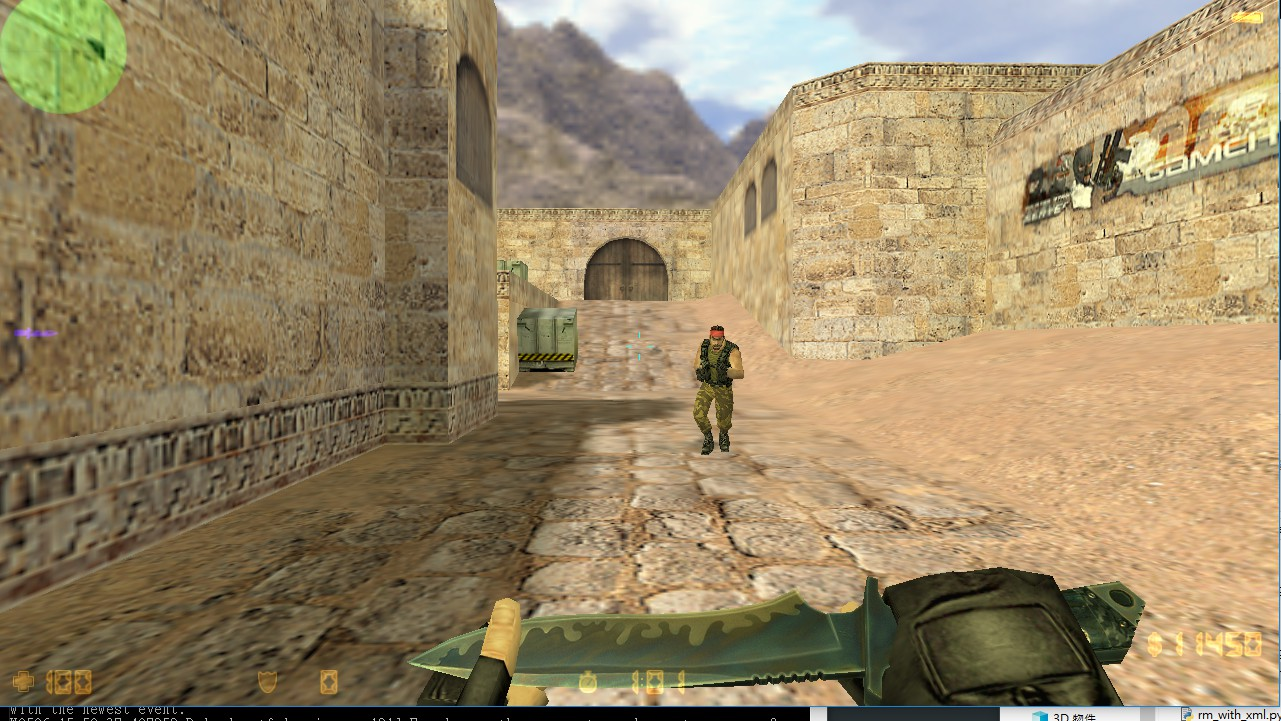person: (683, 322, 746, 461)
